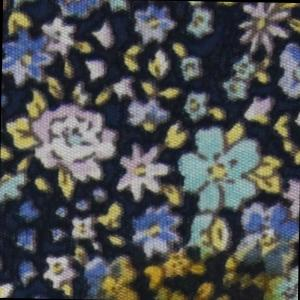Oil Stain: (89, 233, 293, 300)
